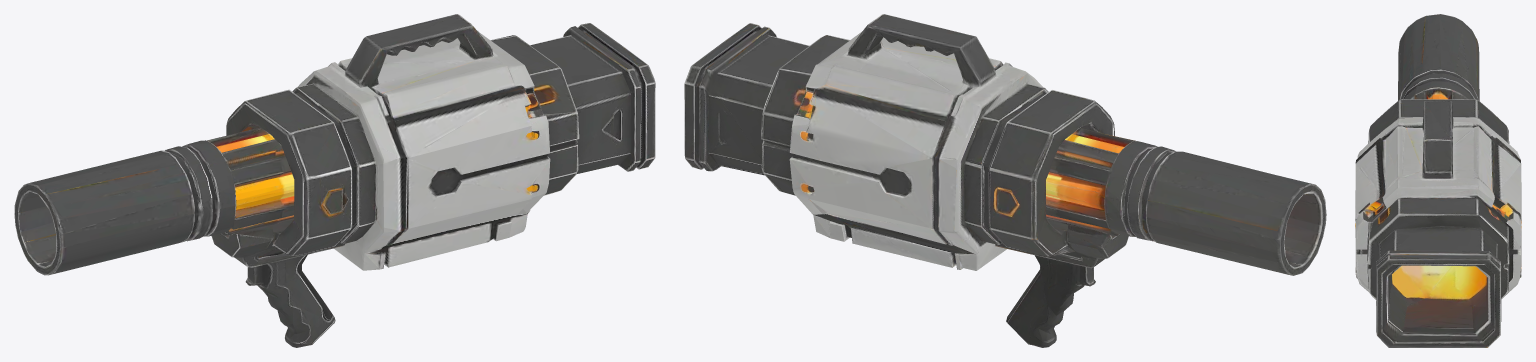
Rendered from mortar.glb.
The picture shows the model from 3 angles, left to right: view 1: azimuth 30°, elevation 25°; view 2: azimuth 150°, elevation 25°; view 3: azimuth 270°, elevation 25°; orthographic projection. The views are drawn at different scales.
Visible parts, largest first — view 1: Mesh_0; view 2: Mesh_0; view 3: Mesh_0.
Boxes of the visible parts, bbox=[...] form: Mesh_0: bbox=[14, 14, 655, 347]; Mesh_0: bbox=[684, 14, 1326, 347]; Mesh_0: bbox=[1355, 14, 1521, 347].
Bounding box in the file's own units: 1.9 × 0.8817 × 0.5417.
Materials: 1 (1 with a texture image).
